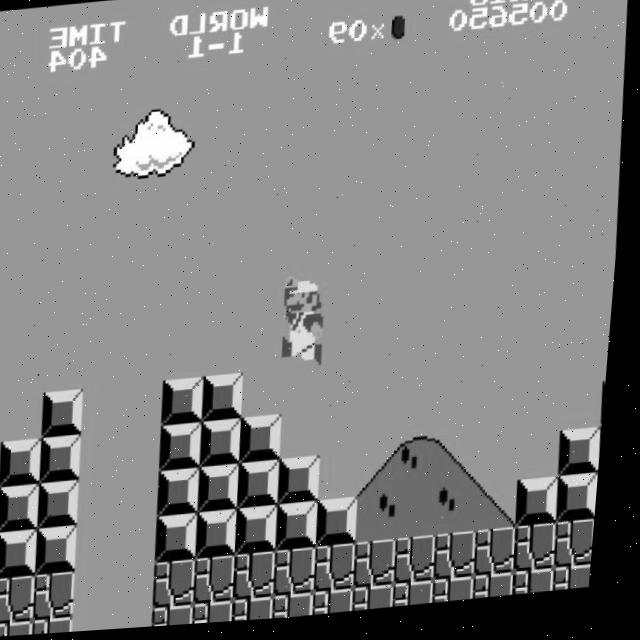17- undestructible_block: (521, 530, 567, 580), (361, 544, 407, 594), (281, 551, 327, 601), (481, 534, 527, 583), (441, 538, 487, 587), (401, 541, 447, 590), (321, 548, 367, 597), (241, 555, 287, 604), (201, 558, 247, 607), (161, 562, 207, 611), (40, 573, 86, 622), (0, 576, 46, 625), (561, 526, 604, 576), (481, 579, 525, 606), (321, 593, 365, 620), (441, 583, 485, 609), (401, 586, 445, 612), (361, 590, 405, 616), (281, 597, 325, 623), (522, 576, 565, 602), (241, 600, 284, 625), (201, 603, 244, 627), (562, 572, 601, 598), (161, 607, 204, 629), (41, 618, 84, 636), (1, 621, 44, 638), (0, 579, 6, 628), (0, 625, 4, 639)
4- fire_mario: (284, 274, 336, 372)
9- hard_block: (564, 435, 610, 485), (523, 484, 569, 534), (164, 470, 210, 520), (3, 484, 49, 534), (322, 502, 368, 551), (284, 460, 330, 509), (282, 506, 328, 555), (245, 418, 291, 467), (244, 464, 290, 513), (242, 509, 288, 558), (206, 376, 252, 425), (204, 467, 250, 516), (202, 512, 248, 561), (166, 379, 212, 428), (162, 516, 208, 565), (46, 390, 92, 439), (43, 481, 89, 530), (42, 527, 88, 576), (5, 439, 51, 488), (2, 530, 48, 579), (205, 422, 251, 470), (165, 425, 211, 473), (45, 436, 91, 484), (563, 480, 607, 530), (0, 488, 9, 536), (0, 533, 8, 582), (606, 389, 613, 435), (605, 435, 610, 482)
